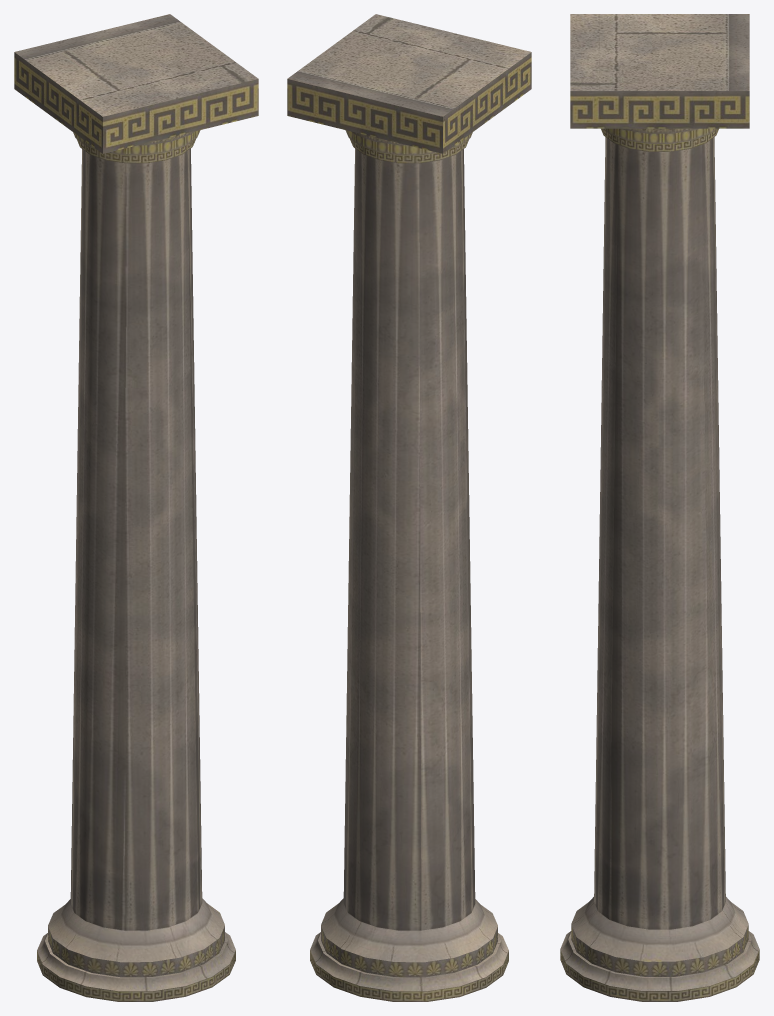
The model's file is SM_temple_column.glb.
The picture shows the model from 3 angles, left to right: view 1: azimuth 30°, elevation 25°; view 2: azimuth 150°, elevation 25°; view 3: azimuth 270°, elevation 25°; orthographic projection.
Parts seen in each view (by area): view 1: SM_temple_column; view 2: SM_temple_column; view 3: SM_temple_column.
Boxes of the visible parts, x1,y1,x2,y2 form: SM_temple_column: [14, 14, 258, 1001]; SM_temple_column: [287, 14, 531, 1001]; SM_temple_column: [560, 14, 759, 1001].
Bounding box in the file's own units: 2.6 × 13.04 × 2.6.
1 material, 1 textured.
